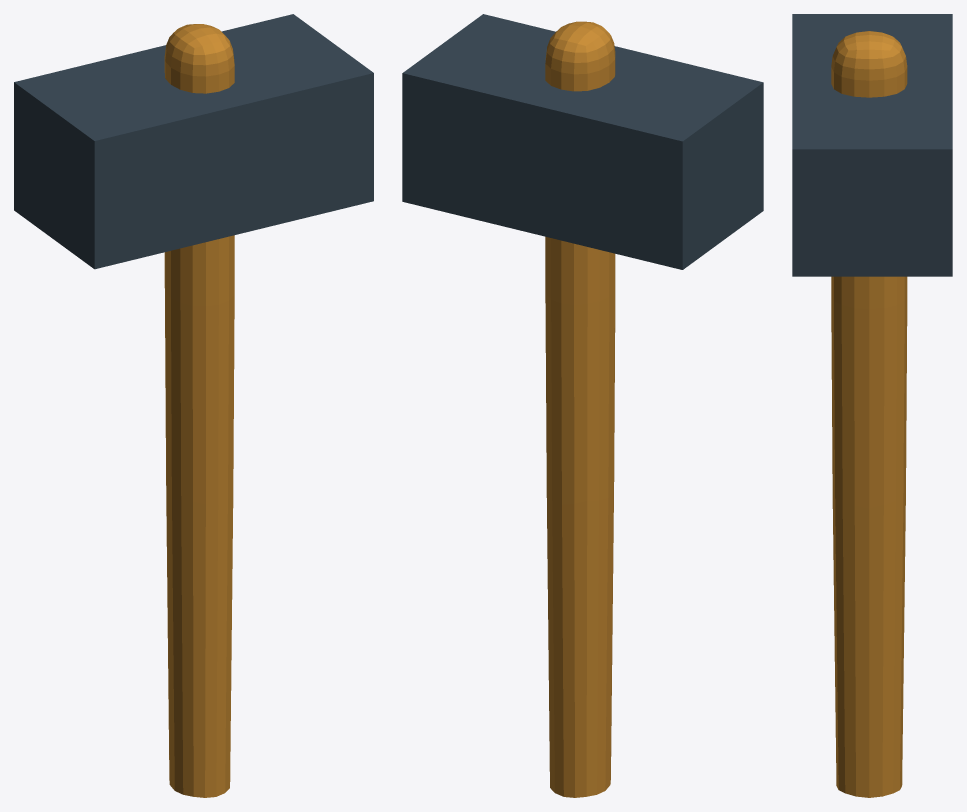
The model's file is Hummer.fbx.
3 views of the same model, side by side, from view 1: azimuth 30°, elevation 25°; view 2: azimuth 150°, elevation 25°; view 3: azimuth 270°, elevation 25° (orthographic).
Parts seen in each view (by area): view 1: Cube; view 2: Cube; view 3: Cube.
Boxes of the visible parts, bbox=[...] form: Cube: bbox=[14, 14, 373, 797]; Cube: bbox=[402, 14, 763, 797]; Cube: bbox=[792, 14, 952, 797].
Bounding box in the file's own units: 965 × 2497 × 482.
